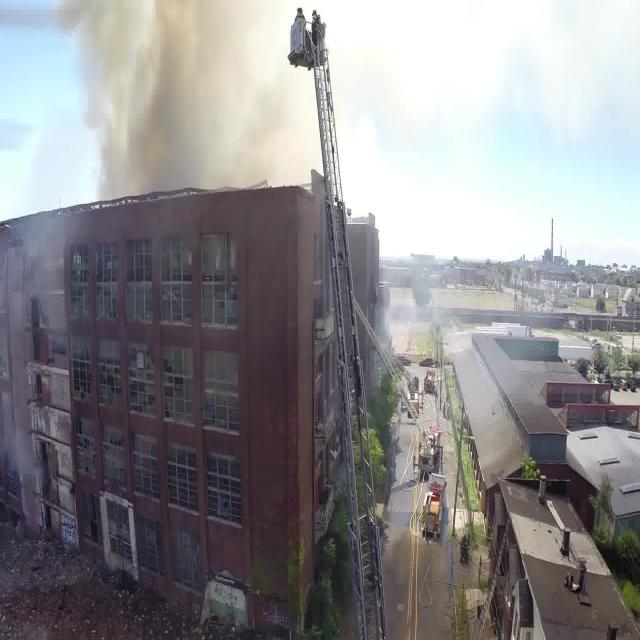Smoke: (5, 0, 331, 423)
